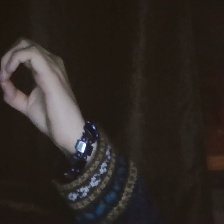O: (1, 31, 85, 148)
